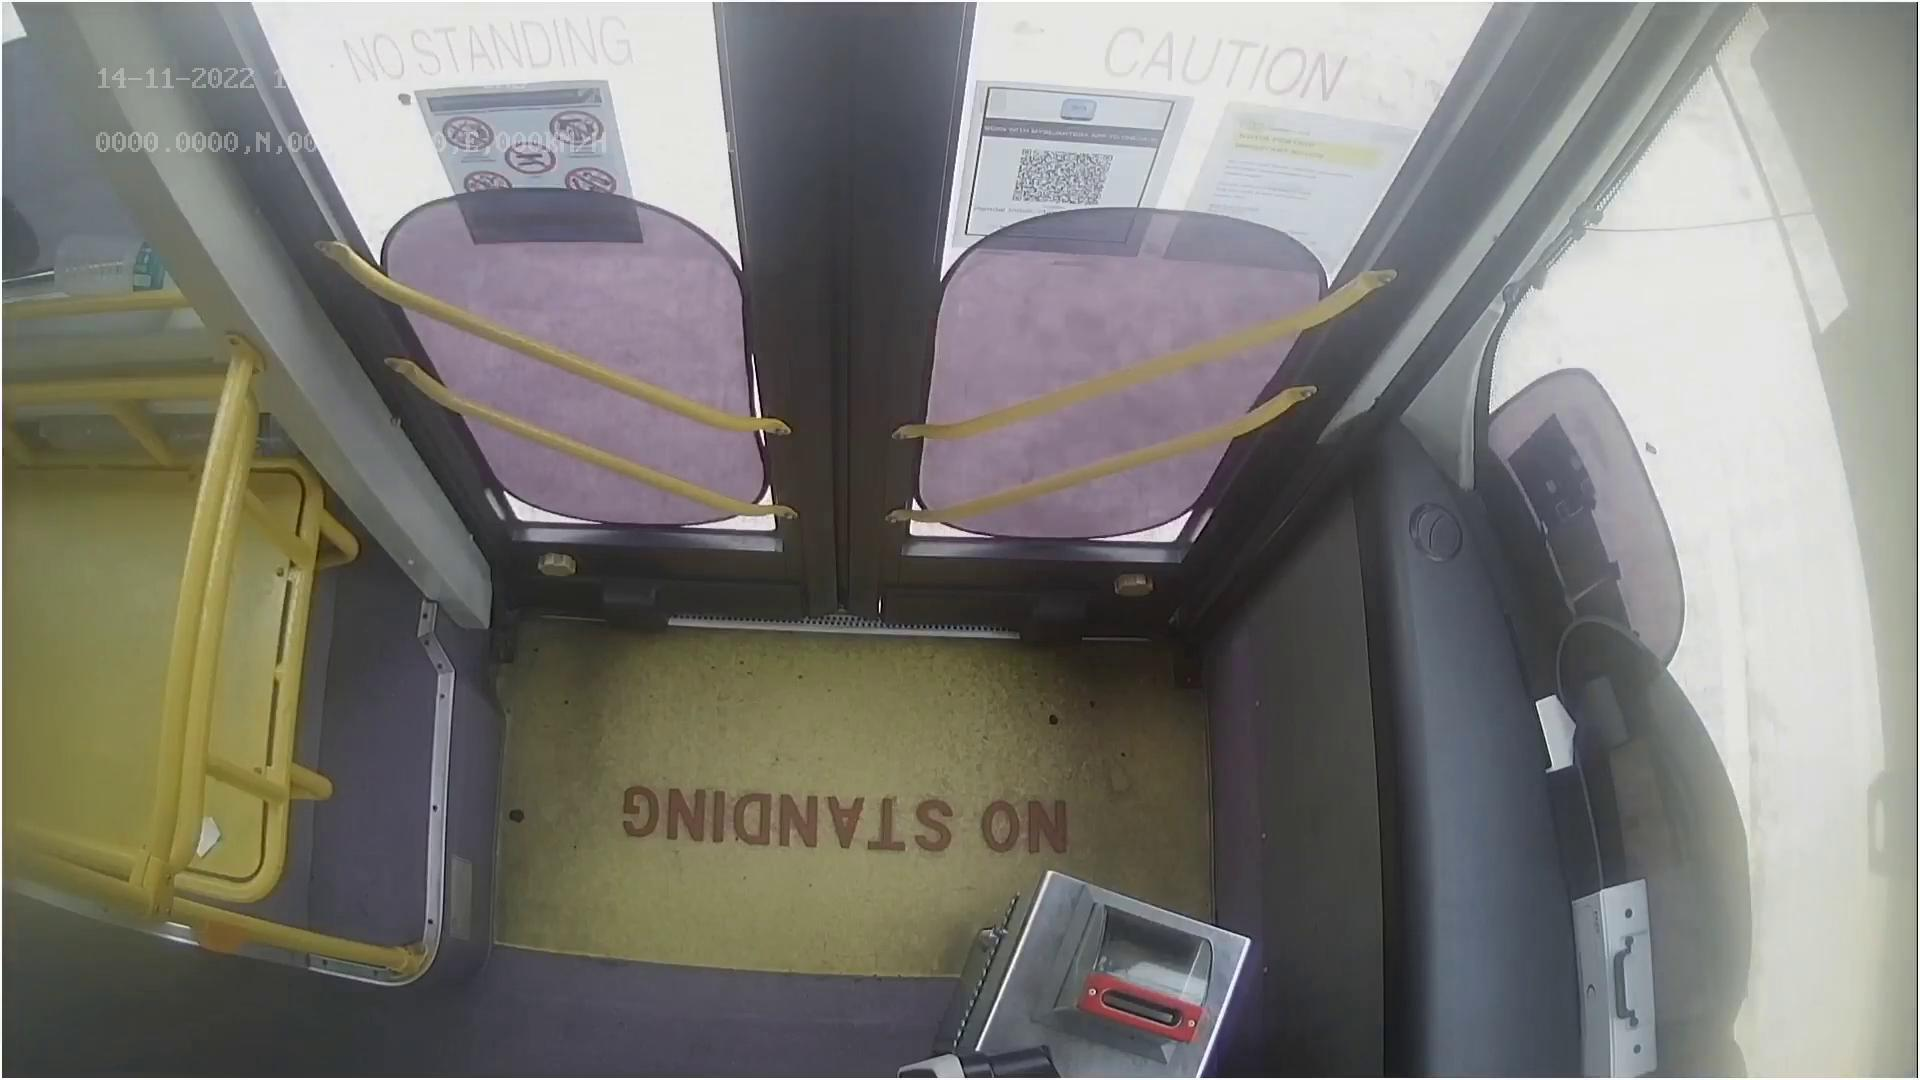close: (289, 0, 1445, 160)
